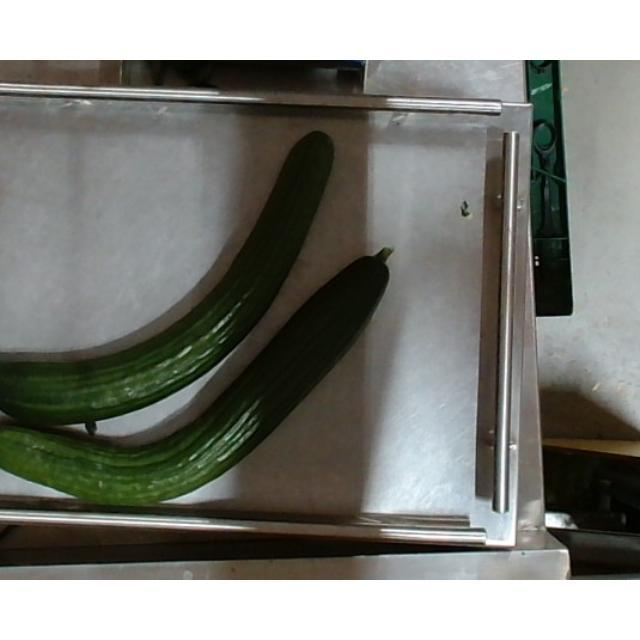cucumber: (1, 248, 392, 508), (0, 132, 334, 428)
